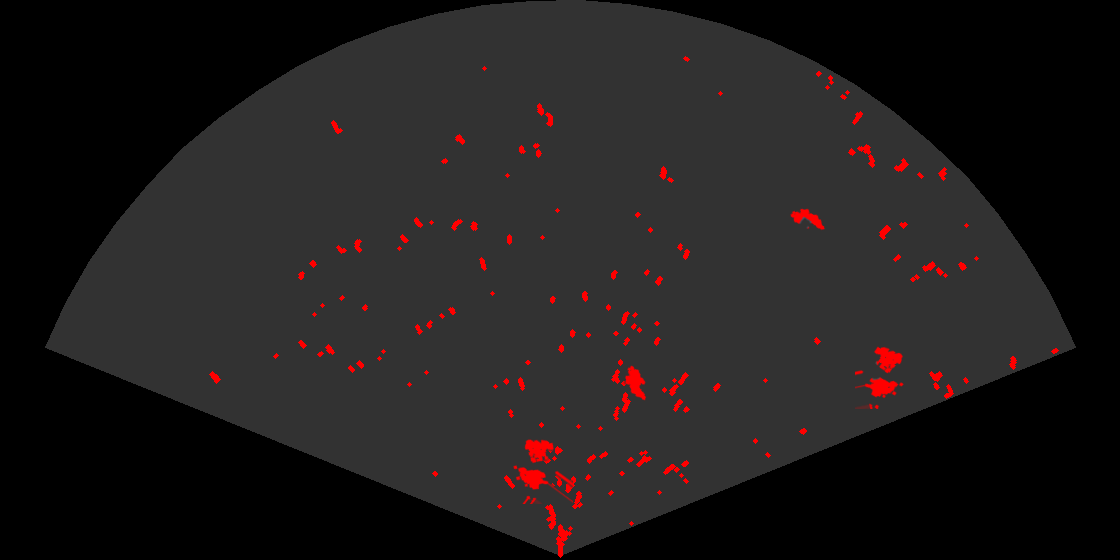AUV: (623, 364, 648, 402), (789, 207, 827, 232)
cage: (512, 438, 573, 504), (855, 345, 905, 409)
